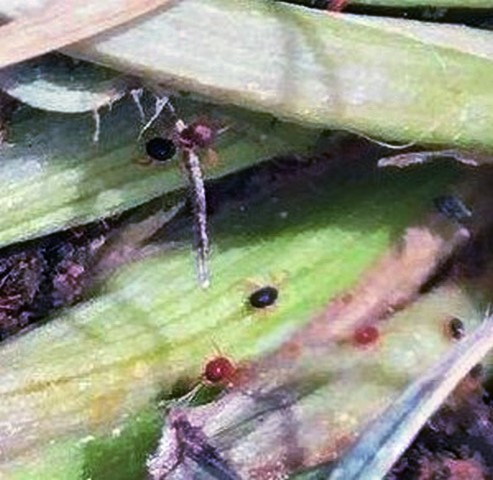Wheat Red Spider: (129, 118, 182, 173)
